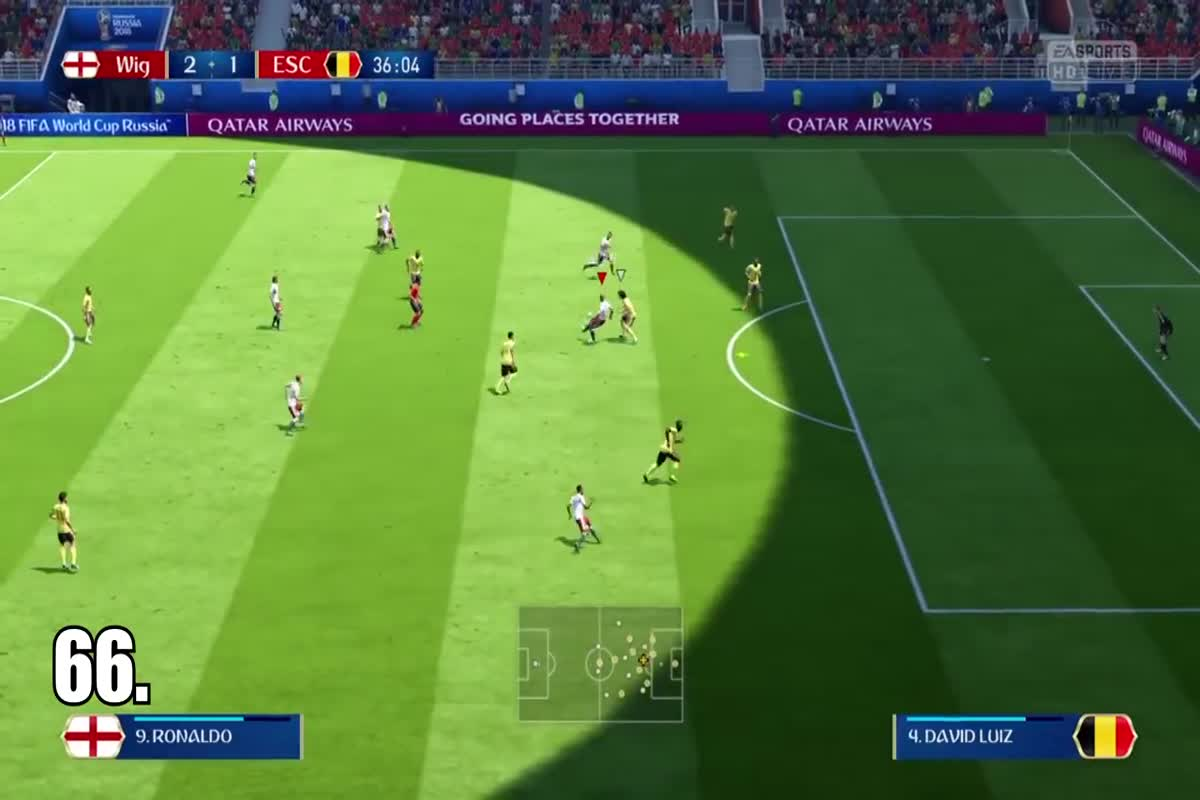ball: (579, 302, 597, 320)
